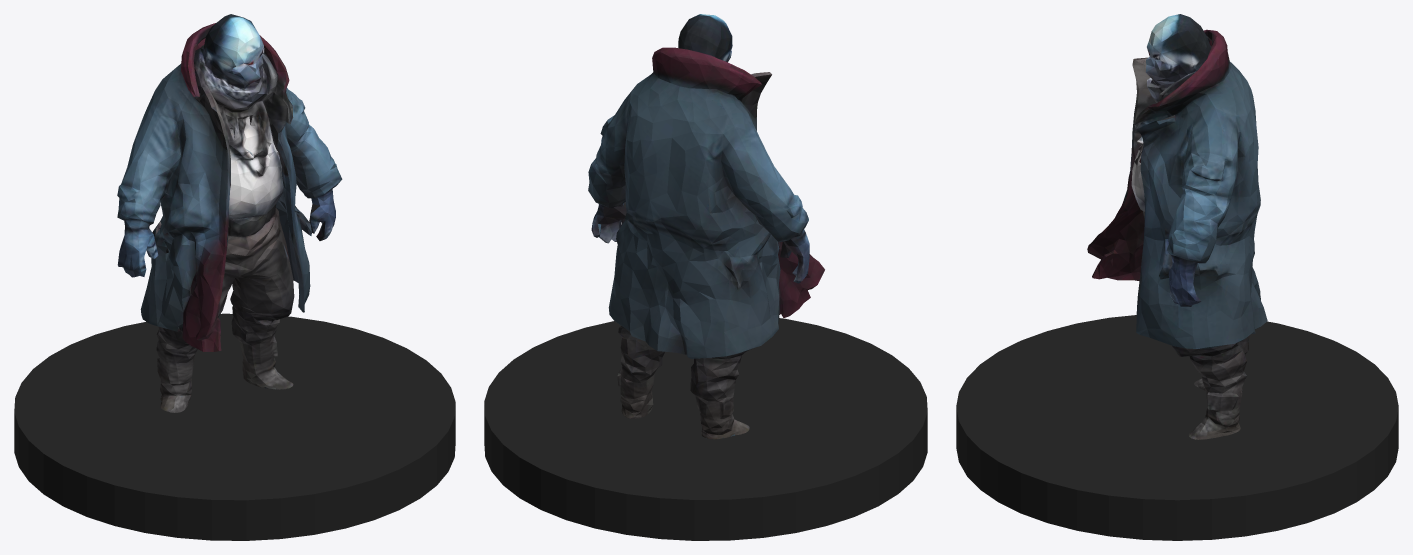
The model's file is zombie-bloated.glb.
3 views of the same model, side by side, from view 1: azimuth 30°, elevation 25°; view 2: azimuth 150°, elevation 25°; view 3: azimuth 270°, elevation 25° (orthographic).
Visible parts, largest first — view 1: base, figure; view 2: base, figure; view 3: base, figure.
Boxes of the visible parts, x1,y1,x2,y2 form: base: (14, 313, 455, 540); figure: (117, 14, 342, 412); base: (484, 318, 927, 540); figure: (588, 14, 824, 439); base: (956, 315, 1398, 540); figure: (1087, 14, 1267, 439).
Bounding box in the file's own units: 1.18 × 1.27 × 1.18.
Materials: 2 (1 with a texture image).
